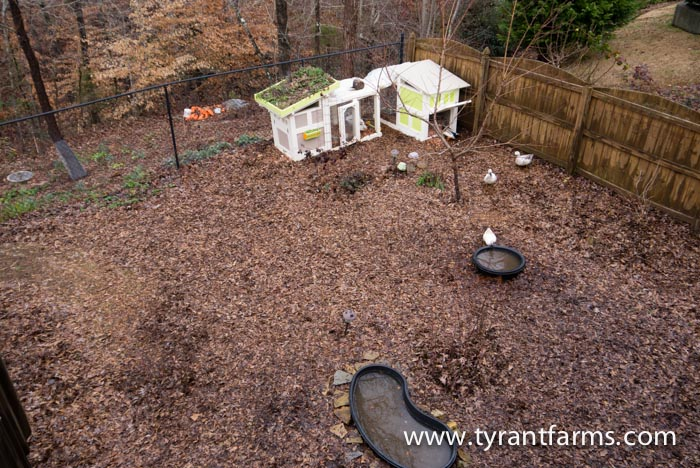container: (7, 168, 39, 193)
pond: (347, 361, 460, 468), (472, 243, 527, 285)
water: (342, 353, 463, 468), (472, 239, 526, 281)
